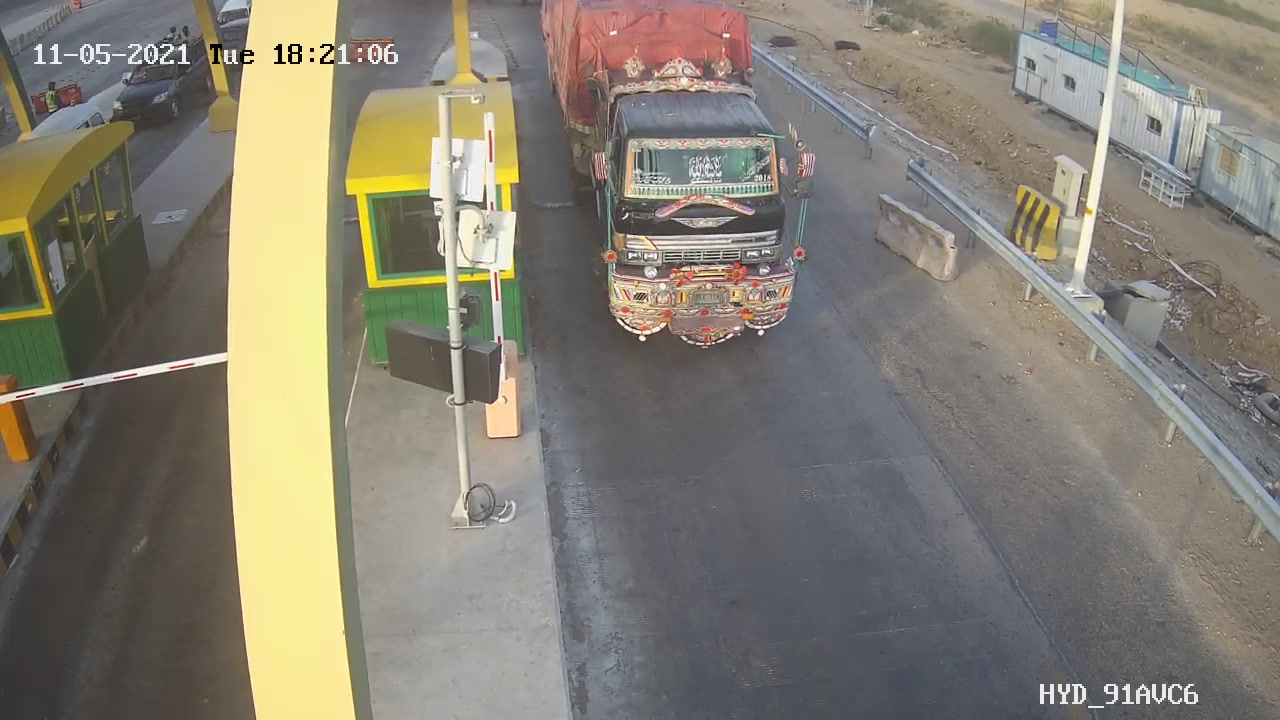F6: (539, 1, 821, 351)
